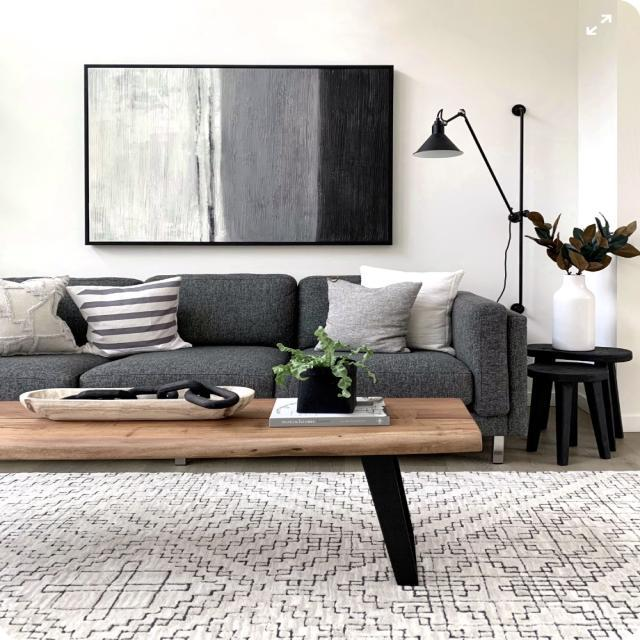lamp: (414, 100, 547, 319)
picture: (78, 58, 400, 250)
pillow: (68, 284, 194, 356), (322, 274, 414, 353), (0, 280, 79, 354)
potted plant: (529, 204, 632, 356), (284, 333, 374, 410)
table: (6, 396, 500, 597)
